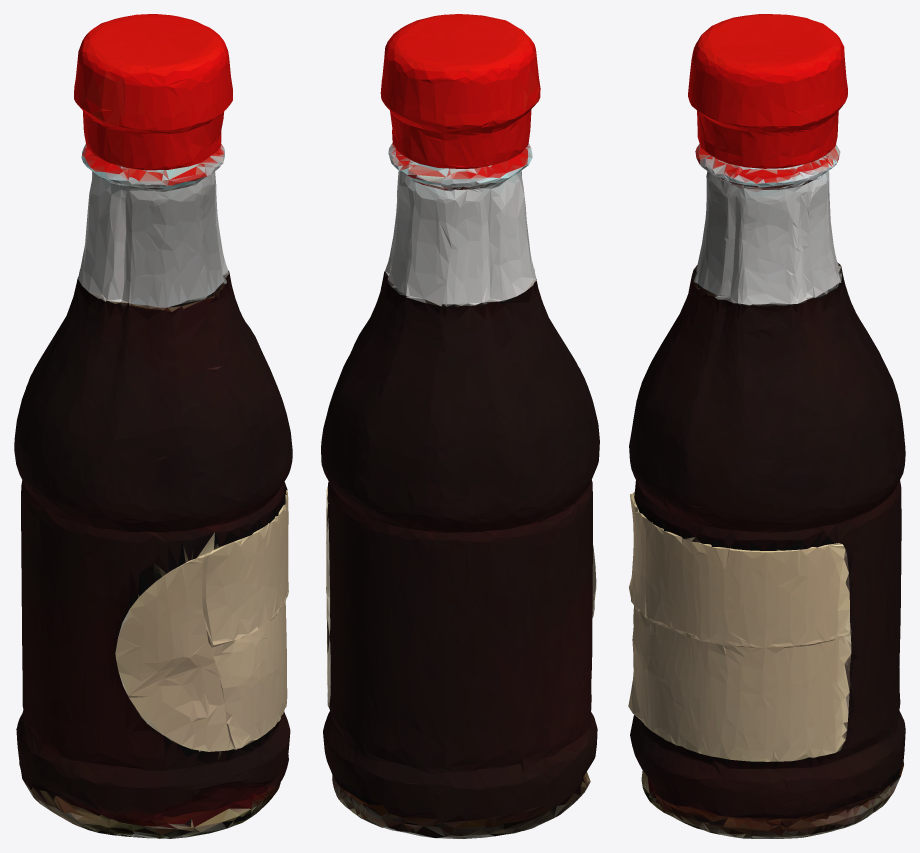
File: soy.glb
3 renders of one model, left to right at view 1: azimuth 30°, elevation 25°; view 2: azimuth 150°, elevation 25°; view 3: azimuth 270°, elevation 25°, orthographic.
Visible parts, largest first — view 1: geometry_0; view 2: geometry_0; view 3: geometry_0.
Boxes of the visible parts, x1,y1,x2,y2 form: geometry_0: [14, 14, 292, 838]; geometry_0: [321, 14, 599, 838]; geometry_0: [628, 14, 905, 838].
Size of the model in its own units: 0.0662 by 0.2 by 0.067.
1 material, 1 textured.
